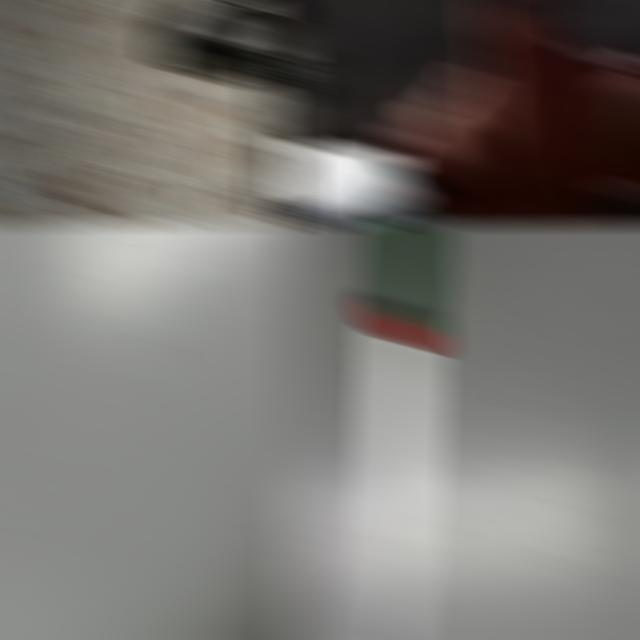Knife: (366, 222, 440, 640), (283, 160, 433, 226)
Knife_Handle: (283, 68, 517, 226)
